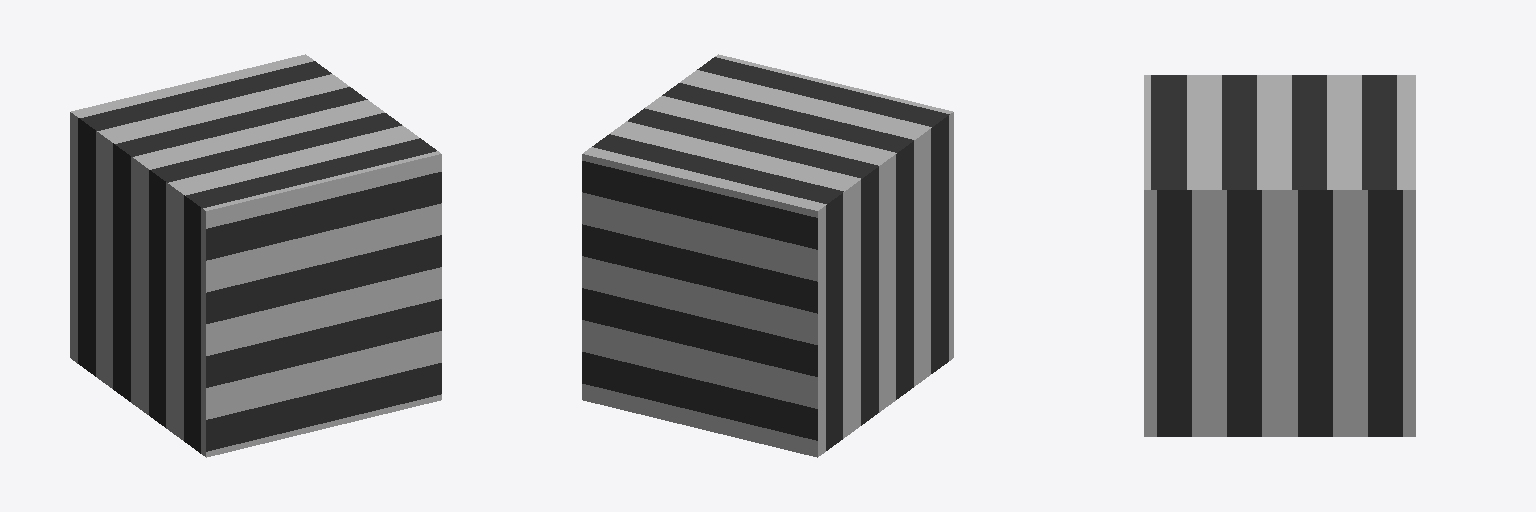
3 views of the same model, side by side, from view 1: azimuth 30°, elevation 25°; view 2: azimuth 150°, elevation 25°; view 3: azimuth 270°, elevation 25° (orthographic).
Parts seen in each view (by area): view 1: c2; view 2: c2; view 3: c2.
Boxes of the visible parts, <box> form: c2: <box>70,54,441,457</box>; c2: <box>582,54,953,457</box>; c2: <box>1144,75,1415,436</box>.
Bounding box in the file's own units: 2 × 2 × 2.
1 materials, 1 textured.